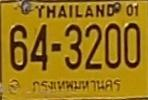0: (123, 22, 140, 67), (104, 23, 120, 68)
2: (84, 24, 102, 68)
3: (64, 24, 81, 69)
4: (30, 23, 47, 70)
6: (10, 24, 26, 70)
BKK: (30, 77, 127, 95)
